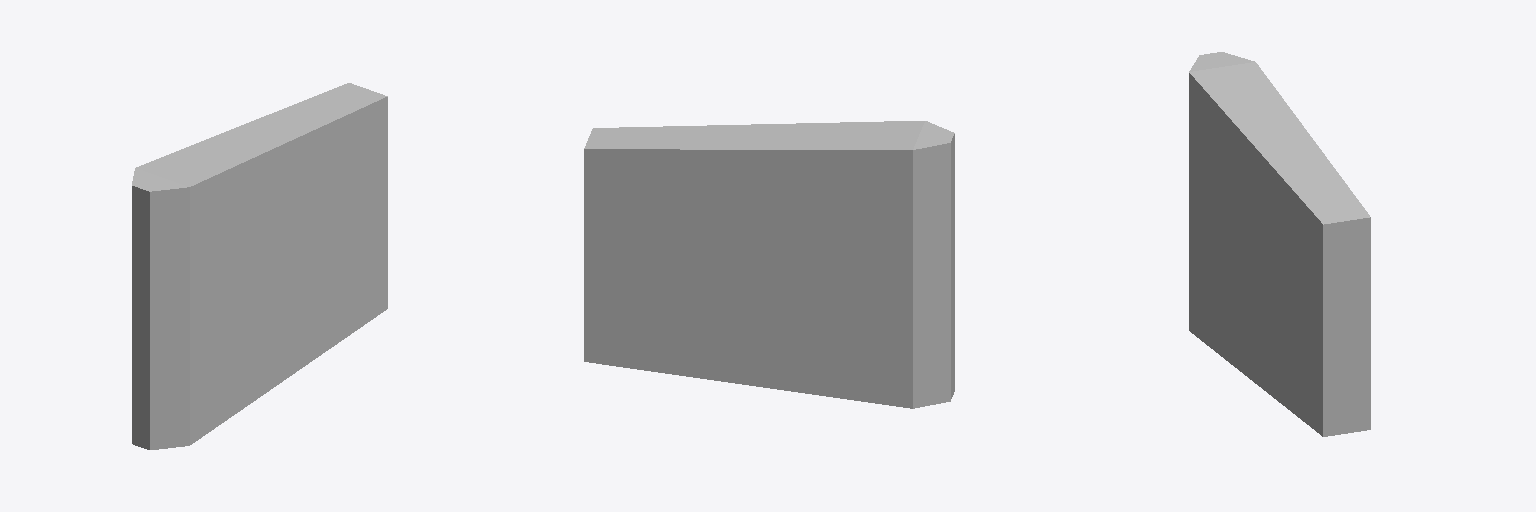
File: rPaddle.obj
The picture shows the model from 3 angles: view 1: azimuth 30°, elevation 25°; view 2: azimuth 150°, elevation 25°; view 3: azimuth 270°, elevation 25°; orthographic projection.
Parts seen in each view (by area): view 1: Cube_Cube.000; view 2: Cube_Cube.000; view 3: Cube_Cube.000.
Part boxes in pixels (bbox=[...]): Cube_Cube.000: bbox=[132, 83, 387, 449]; Cube_Cube.000: bbox=[584, 121, 954, 408]; Cube_Cube.000: bbox=[1189, 52, 1370, 436].
Size of the model in its own units: 2.48 by 2 by 1.28.